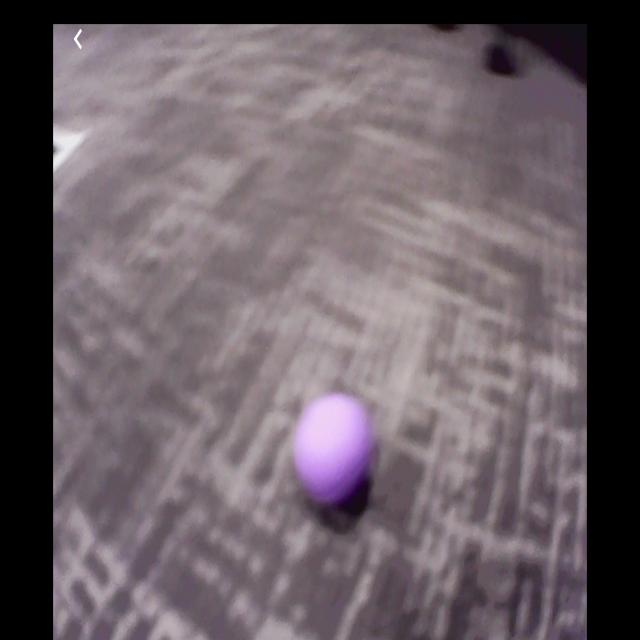ball: (297, 392, 374, 504)
